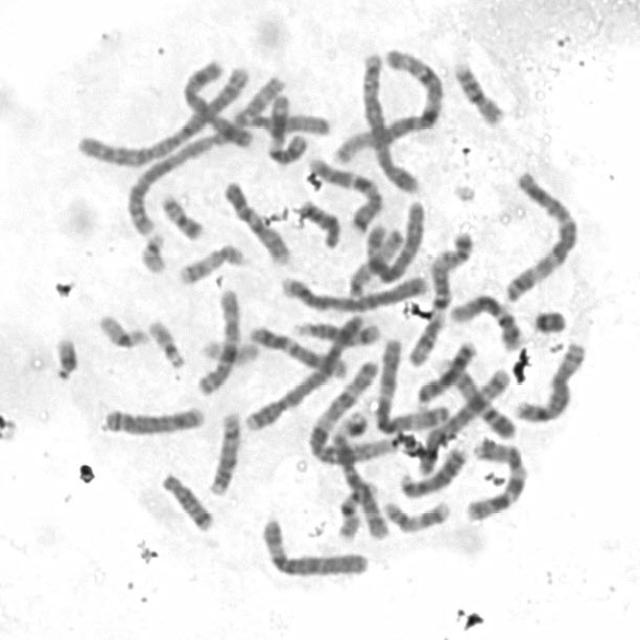A1: (326, 45, 446, 166), (305, 350, 404, 468)
A2: (118, 62, 264, 238), (72, 57, 247, 169)
A3: (499, 164, 582, 303), (370, 330, 452, 434)
B4: (240, 308, 371, 436), (275, 268, 433, 314)
B5: (412, 363, 512, 475), (357, 46, 421, 196)
C10: (324, 428, 392, 542), (193, 284, 242, 396)
C11: (404, 250, 454, 366), (262, 89, 310, 166)
C12: (246, 320, 351, 380), (447, 288, 525, 352)
C6: (256, 513, 372, 580), (361, 198, 426, 283)
C7: (303, 152, 386, 234), (462, 432, 532, 523)
C8: (509, 336, 588, 424), (98, 399, 208, 438)
C9: (431, 350, 519, 441), (220, 175, 292, 266)
D13: (412, 335, 481, 409), (396, 440, 470, 499)
D14: (204, 406, 243, 497), (286, 316, 381, 347)
D15: (344, 223, 406, 300), (240, 107, 332, 137)
E16: (449, 55, 507, 127), (334, 477, 379, 542)
E17: (174, 238, 248, 286), (378, 494, 452, 534)
E18: (157, 467, 216, 533), (294, 193, 344, 250)
F19: (94, 309, 153, 350), (197, 334, 260, 366)
F20: (156, 187, 206, 242), (433, 226, 475, 272)
G21: (49, 330, 82, 383), (333, 407, 370, 439)
G22: (143, 313, 189, 370), (136, 227, 169, 276)
Y: (528, 304, 569, 335)
